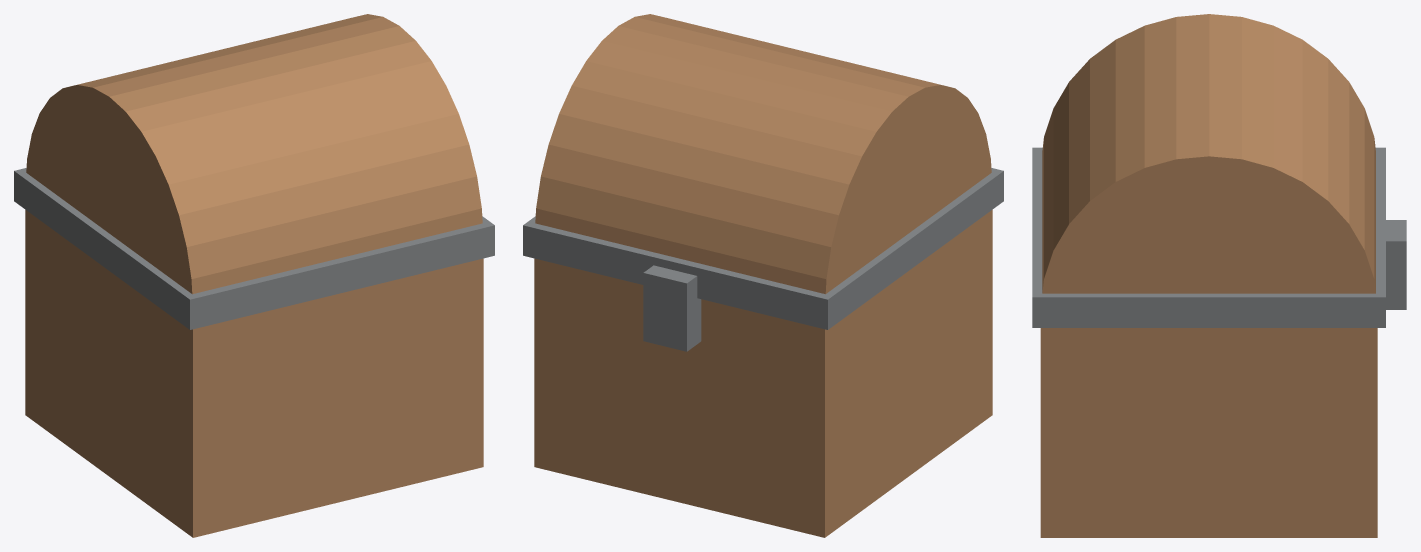
The model's file is Chest.fbx.
The picture shows the model from 3 angles, left to right: view 1: azimuth 30°, elevation 25°; view 2: azimuth 150°, elevation 25°; view 3: azimuth 270°, elevation 25°; orthographic projection.
Parts seen in each view (by area): view 1: Cube, Cylinder, Cube.002, Cube.003; view 2: Cylinder, Cube, Cube.001, Cube.003, Cube.005; view 3: Cylinder, Cube, Cube.004, Cube.001, Cube.002, Cube.005.
Boxes of the visible parts, bbox=[...] form: Cube: bbox=[25, 210, 483, 537]; Cylinder: bbox=[26, 14, 482, 391]; Cube.002: bbox=[175, 220, 494, 329]; Cube.003: bbox=[21, 176, 189, 324]; Cylinder: bbox=[535, 14, 991, 294]; Cube: bbox=[534, 210, 992, 537]; Cube.001: bbox=[523, 216, 844, 329]; Cube.003: bbox=[831, 174, 996, 324]; Cube.005: bbox=[643, 265, 701, 351]; Cylinder: bbox=[1042, 14, 1375, 461]; Cube: bbox=[1040, 328, 1377, 537]; Cube.004: bbox=[1046, 293, 1371, 327]; Cube.001: bbox=[1352, 147, 1385, 327]; Cube.002: bbox=[1032, 147, 1065, 327]; Cube.005: bbox=[1386, 220, 1406, 309].
Bounding box in the file's own units: 210 × 250 × 222.
